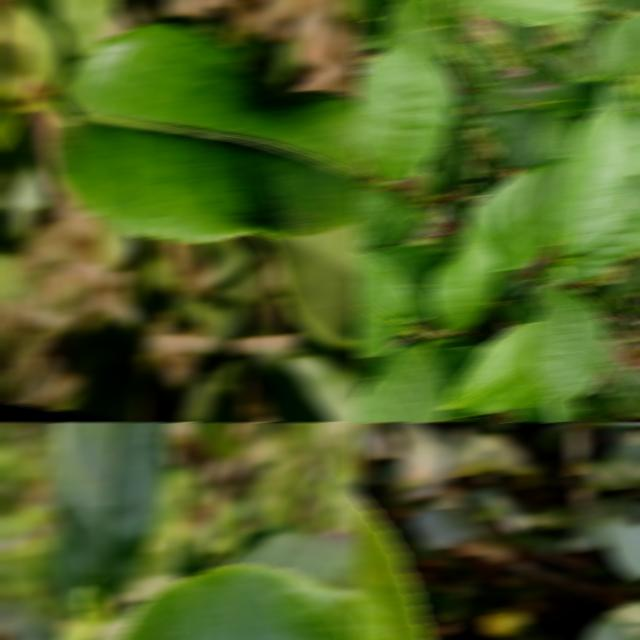Leaf: (49, 24, 362, 242), (48, 422, 174, 601), (117, 564, 362, 640), (354, 28, 452, 180), (265, 221, 362, 349), (529, 283, 609, 422), (473, 158, 570, 271), (442, 323, 551, 414), (228, 530, 362, 600), (427, 208, 499, 335), (17, 0, 119, 86), (354, 342, 449, 422), (552, 198, 640, 284), (255, 354, 362, 422), (354, 249, 415, 357), (370, 245, 451, 323), (370, 0, 454, 59), (476, 108, 549, 169), (0, 115, 40, 213), (454, 0, 588, 26), (592, 14, 640, 82), (600, 340, 640, 417), (409, 507, 482, 549), (368, 191, 420, 246), (597, 518, 640, 581), (533, 111, 586, 160), (0, 601, 62, 640), (423, 125, 458, 193), (582, 600, 640, 640), (540, 81, 606, 116), (501, 19, 545, 66), (187, 422, 239, 460), (476, 82, 520, 116), (531, 45, 578, 76), (453, 42, 486, 85), (608, 258, 640, 297), (462, 41, 503, 69), (606, 83, 640, 115), (550, 17, 586, 47), (354, 18, 382, 50), (444, 200, 476, 228), (593, 0, 636, 14)
